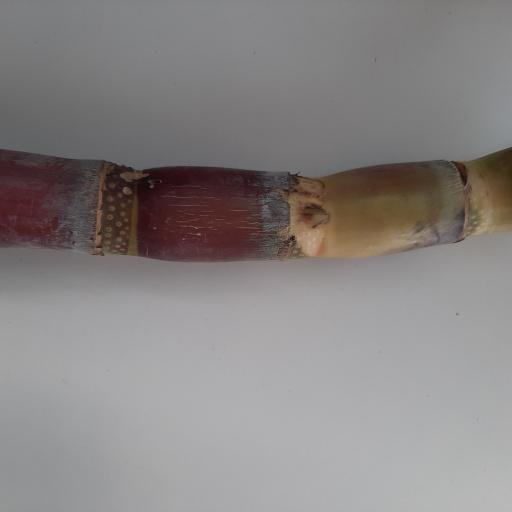Bud: (294, 204, 331, 228)
